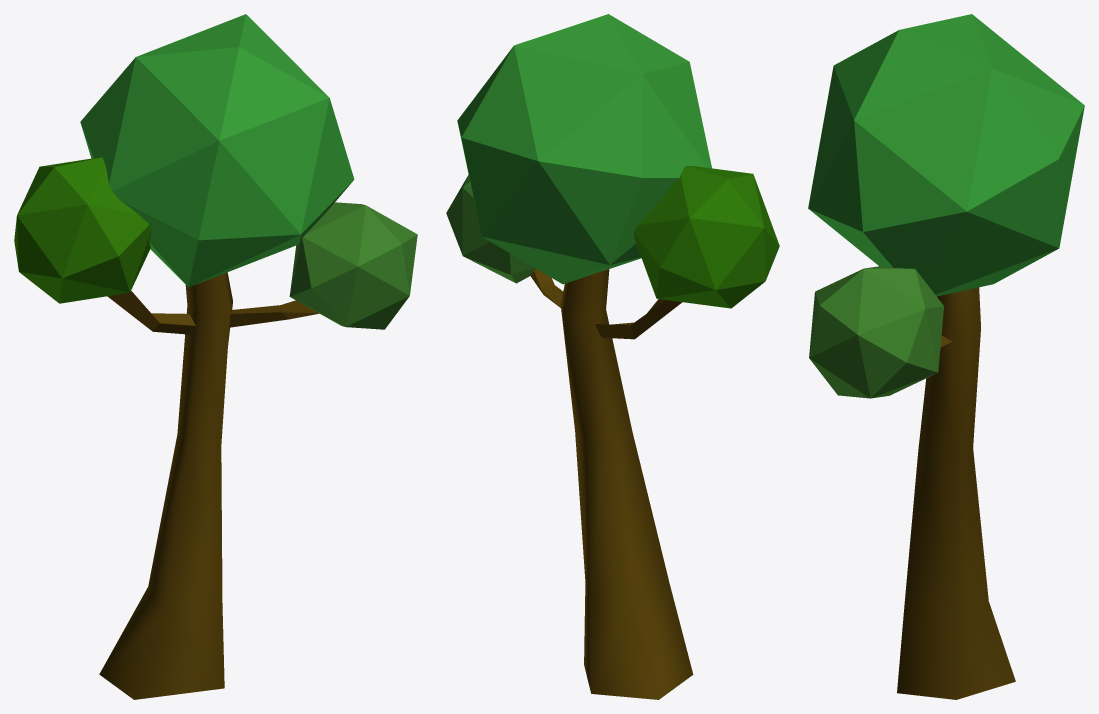
File: arbol.fbx
3 views of the same model, side by side, from view 1: azimuth 30°, elevation 25°; view 2: azimuth 150°, elevation 25°; view 3: azimuth 270°, elevation 25° (orthographic). The views are drawn at different scales.
Visible parts, largest first — view 1: Cylinder001; view 2: Cylinder001; view 3: Cylinder001.
Part boxes in pixels (x1,y1,x2,y2): Cylinder001: (14,14,417,699); Cylinder001: (446,14,779,699); Cylinder001: (808,14,1084,699).
Size of the model in its own units: 3.41 by 5.93 by 2.22.
